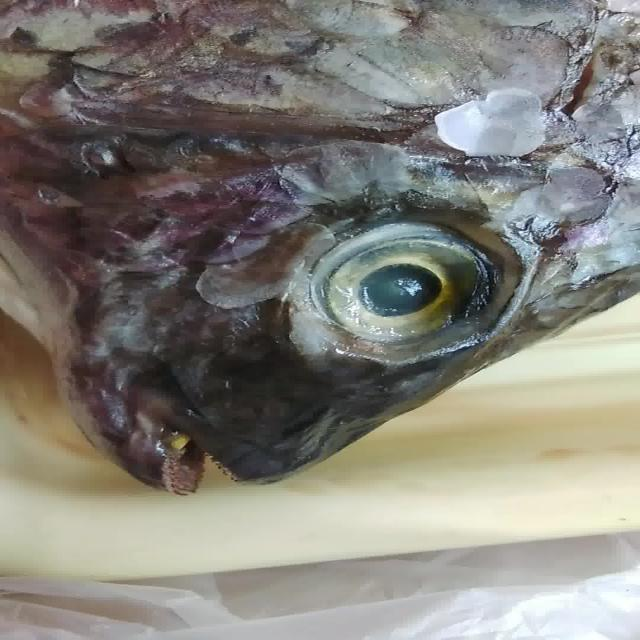Non-Fresh: (2, 3, 581, 456), (300, 202, 528, 376)
